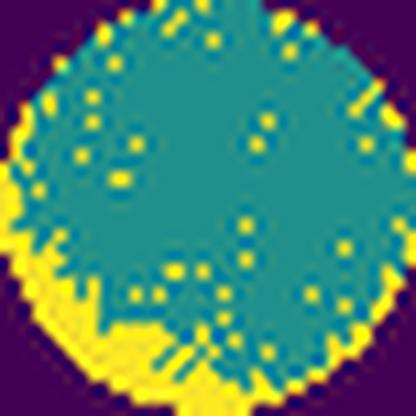Edge-Loc: (0, 126, 263, 416)
